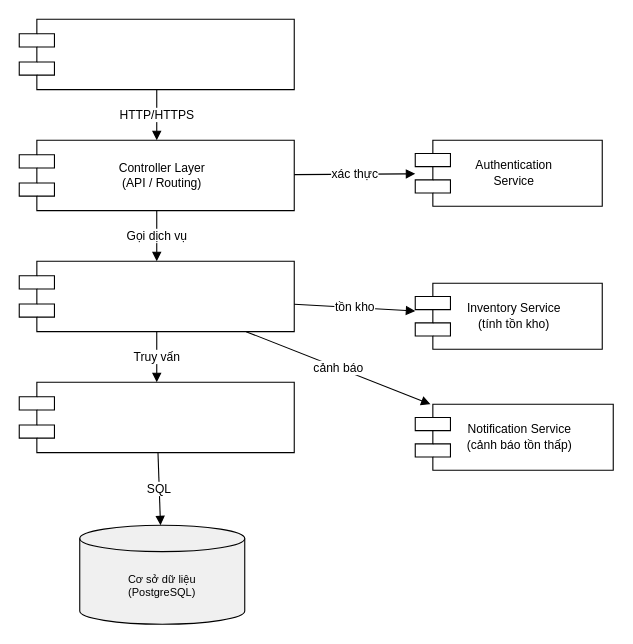
Some shapes in this 633 by 644 pixel diagram are drawn without their labels. The shapes that lost their labels are listed below. From the top down, each one's centre as x and y in pixels, then its label:
At [156,54]: "Giao diện người dùng (UI / Web Browser)".
At [156,296]: "Service Layer (Business Logic)".
At [156,417]: "Repository Layer (Data Access)".
